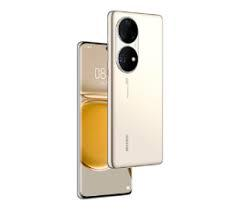Smartphone: (105, 4, 174, 176), (76, 36, 131, 204)
